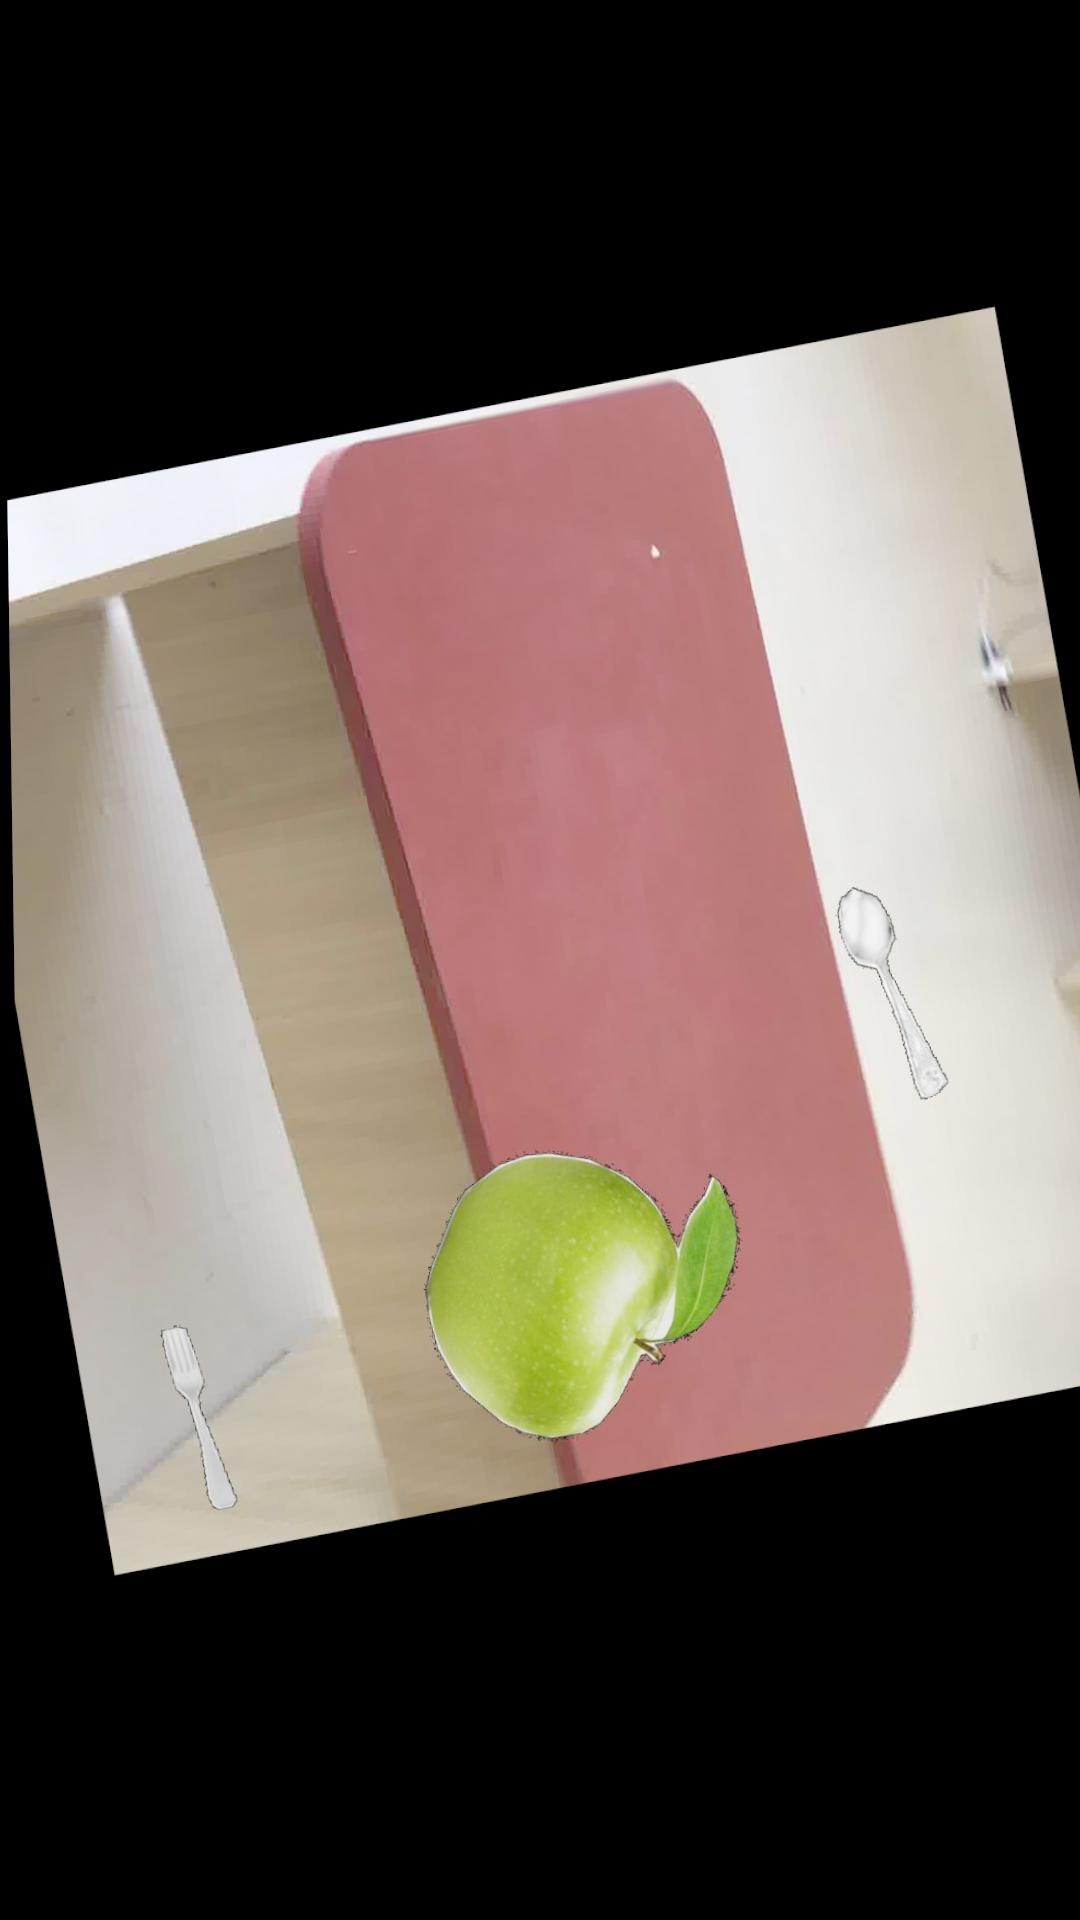fork: (157, 1324, 233, 1509)
green apple: (421, 1154, 737, 1441)
spoon: (835, 890, 945, 1102)
